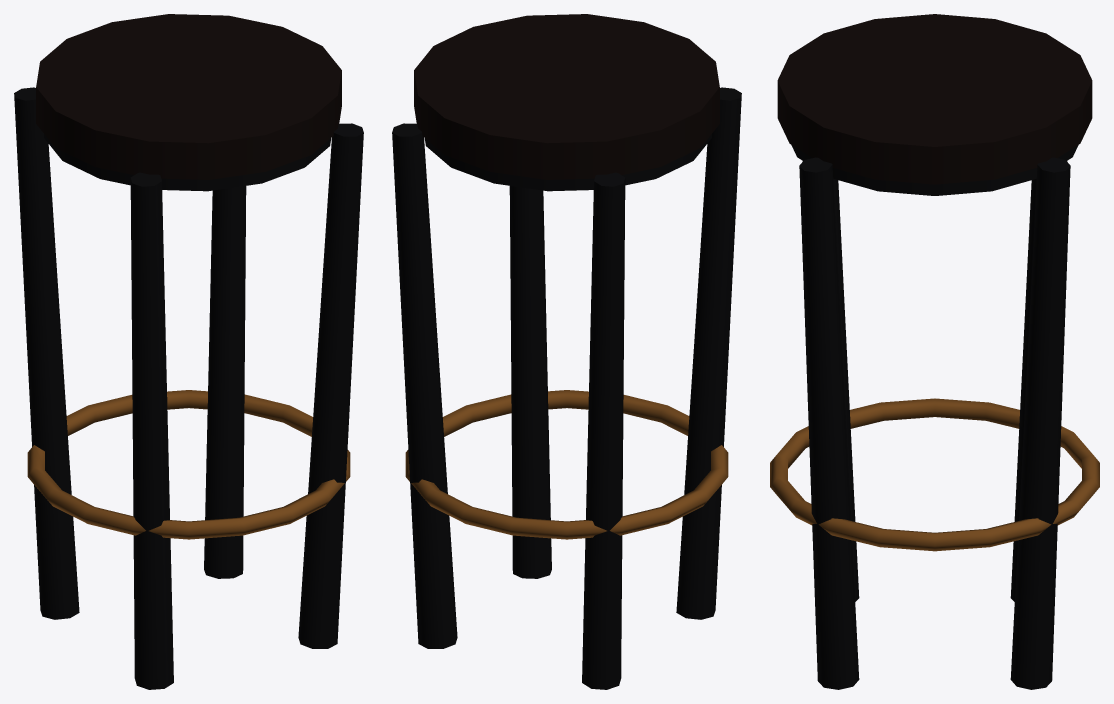
File: bar_stool.glb
3 renders of one model, left to right at view 1: azimuth 30°, elevation 25°; view 2: azimuth 150°, elevation 25°; view 3: azimuth 270°, elevation 25°, orthographic. The views are drawn at different scales.
Visible parts, largest first — view 1: bar_stool; view 2: bar_stool; view 3: bar_stool.
Boxes of the visible parts, <box> form: bar_stool: <box>14,14,363,689</box>; bar_stool: <box>392,14,741,689</box>; bar_stool: <box>770,14,1099,689</box>.
Bounding box in the file's own units: 0.404 × 0.7459 × 0.3979.
